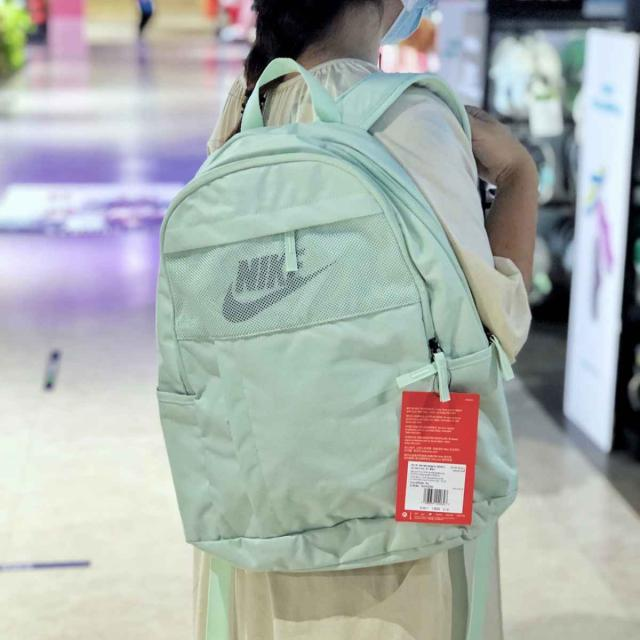Handbag: (152, 123, 516, 569)
